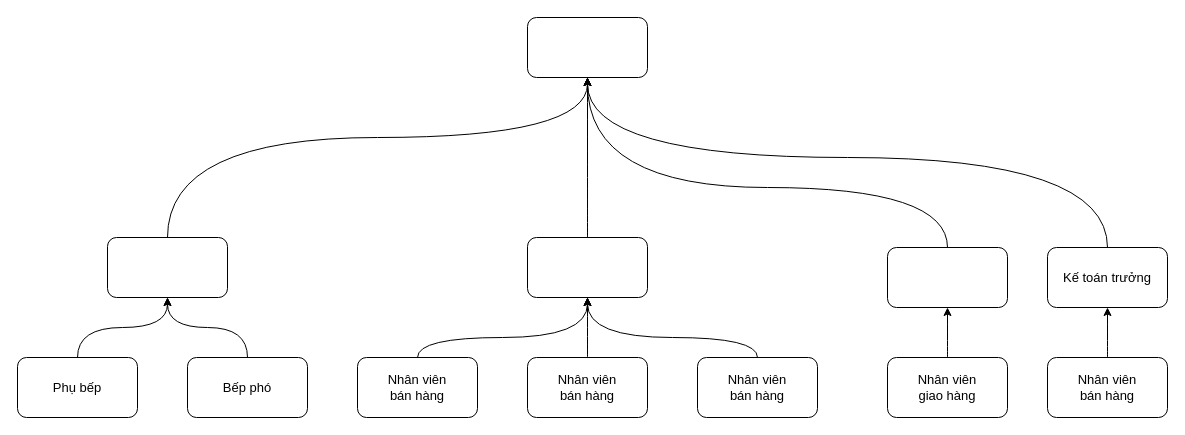
Image size: 1185x435. Some labels were removed from this diagram. The shapes that lost their labels are listed below. From the top down, each one's centre as x and y in pixels, then its label:
(587,47): Quản lí trưởng
(167,267): Bếp trưởng
(587,267): Quản lí giám sát
(947,277): Quản lí kho
